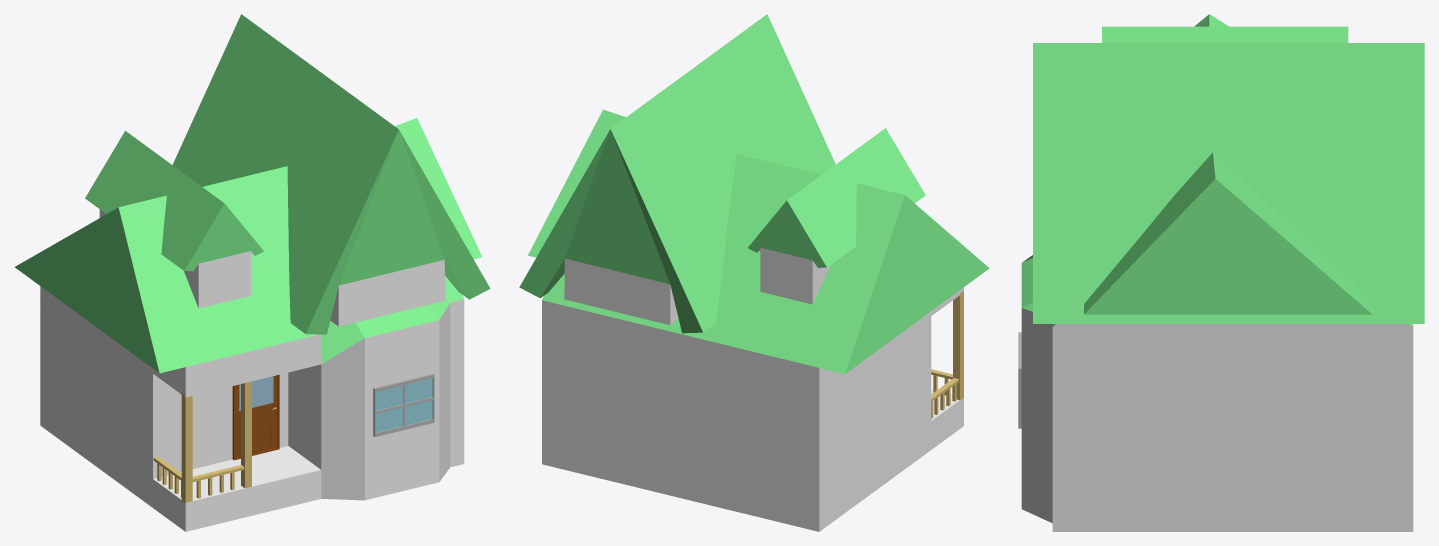
Rendered from greenHouse.gltf.
3 renders of one model, left to right at view 1: azimuth 30°, elevation 25°; view 2: azimuth 150°, elevation 25°; view 3: azimuth 270°, elevation 25°, orthographic. The views are drawn at different scales.
Parts seen in each view (by area): view 1: house1, house3, house2, Brown Door, 平面.002, 立方体; view 2: house1, house3, house2; view 3: house1, house3, house2.
Part boxes in pixels (left/top/right/bottom): house1: left=14, top=118, right=482, bottom=531; house3: left=172, top=14, right=490, bottom=334; house2: left=85, top=131, right=263, bottom=308; Brown Door: left=232, top=374, right=279, bottom=460; 平面.002: left=376, top=378, right=432, bottom=432; 立方体: left=373, top=373, right=434, bottom=436; house1: left=528, top=109, right=989, bottom=531; house3: left=519, top=14, right=835, bottom=333; house2: left=748, top=128, right=925, bottom=304; house1: left=1021, top=14, right=1413, bottom=531; house3: left=1033, top=43, right=1424, bottom=323; house2: left=1102, top=26, right=1348, bottom=42.
Bounding box in the file's own units: 14.54 × 14.84 × 12.28.
